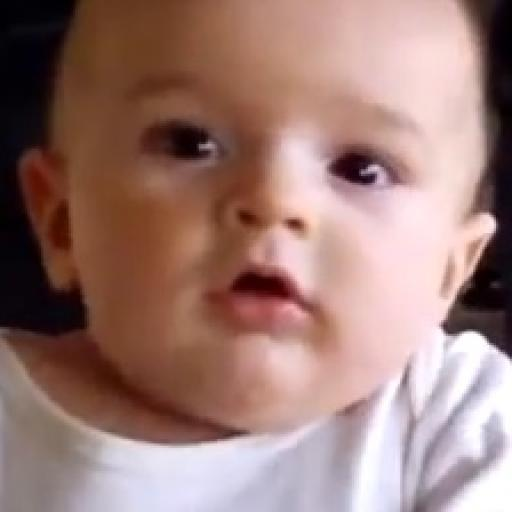Autism: (45, 1, 474, 488)
